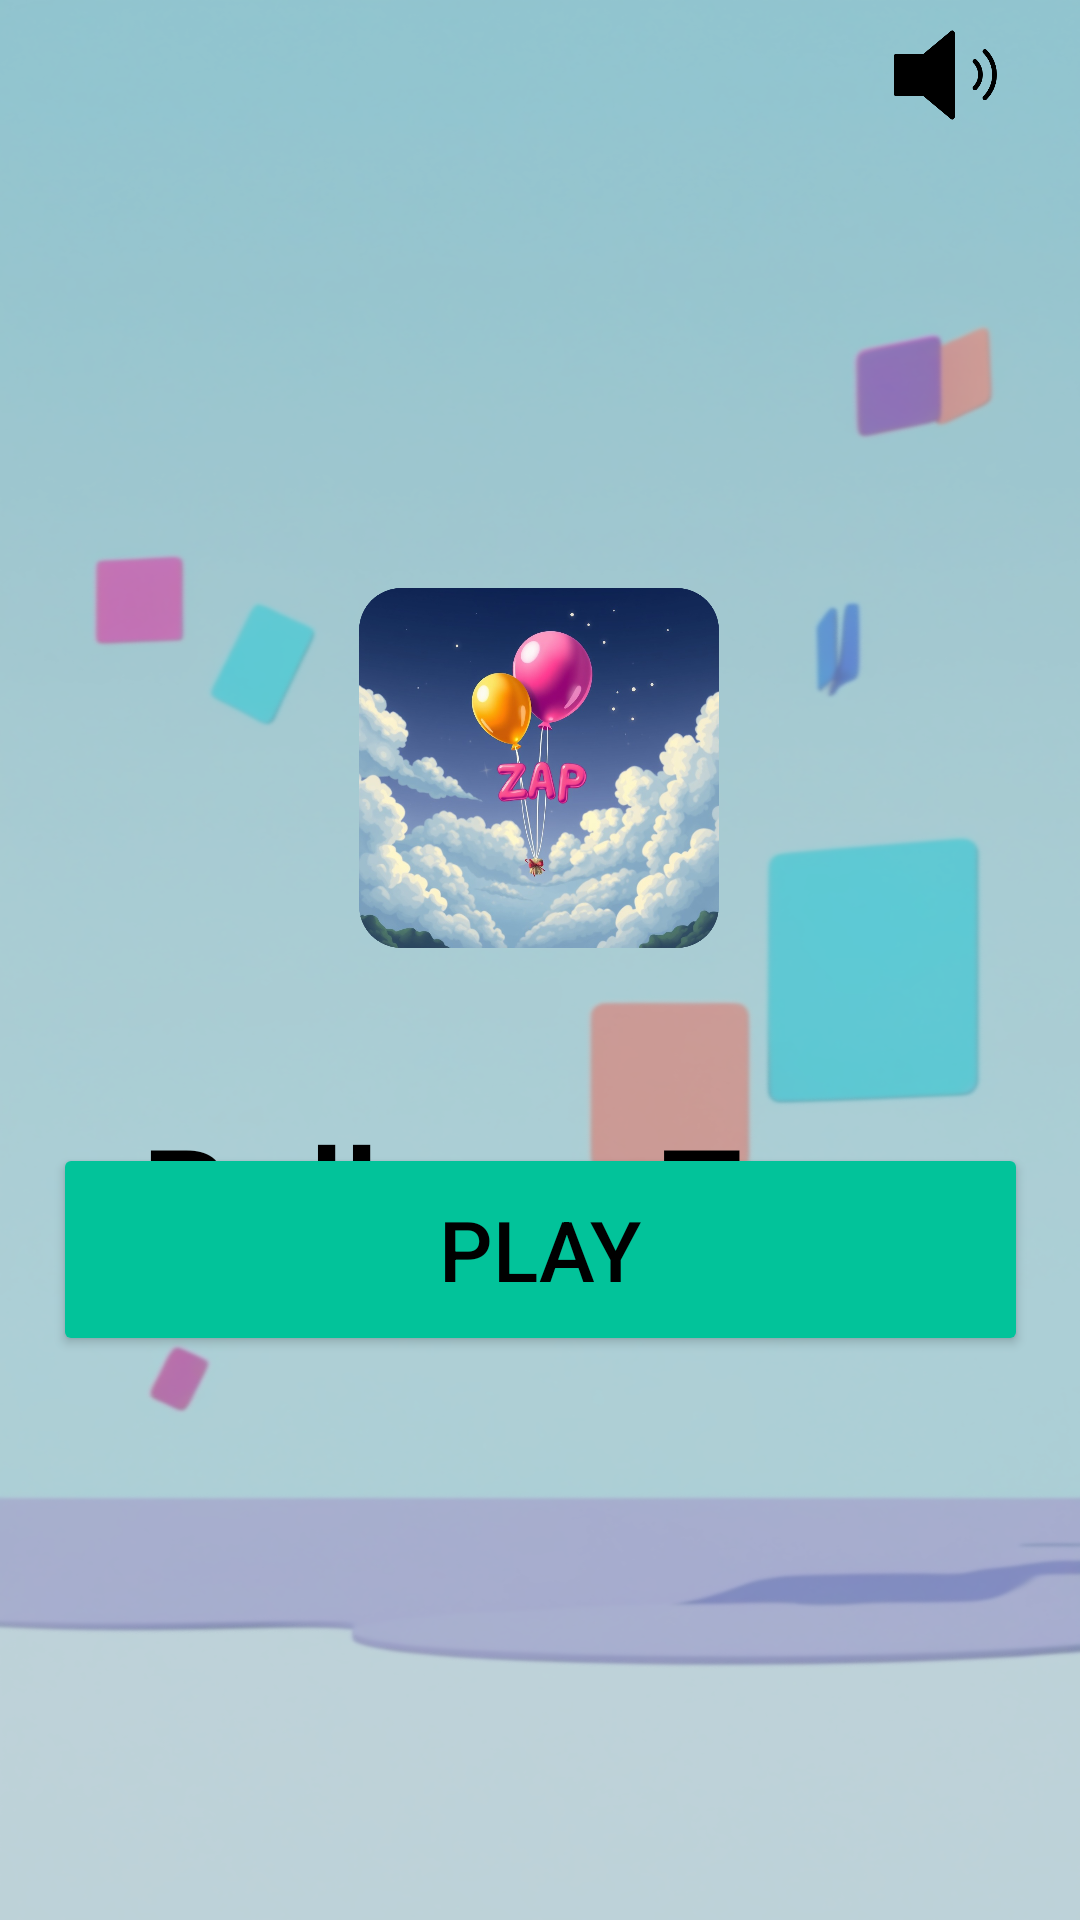

Icon bounding boxes for this 1080px×1920px phone screenshot, format (x1, y1, x2, y2):
balloon: (359, 588, 719, 948)
level two sound: (894, 30, 997, 120)
